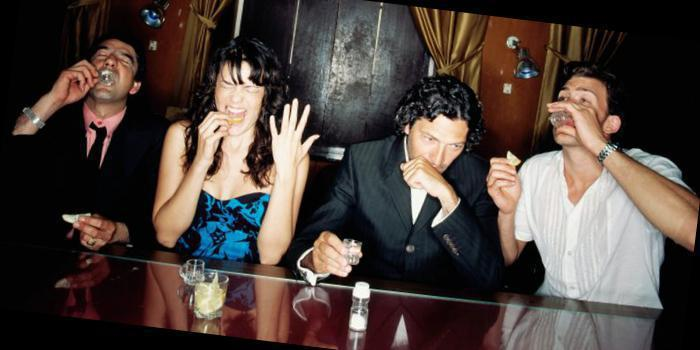Drunk: (216, 63, 266, 133), (413, 108, 462, 175), (555, 76, 602, 142), (91, 42, 136, 101)
